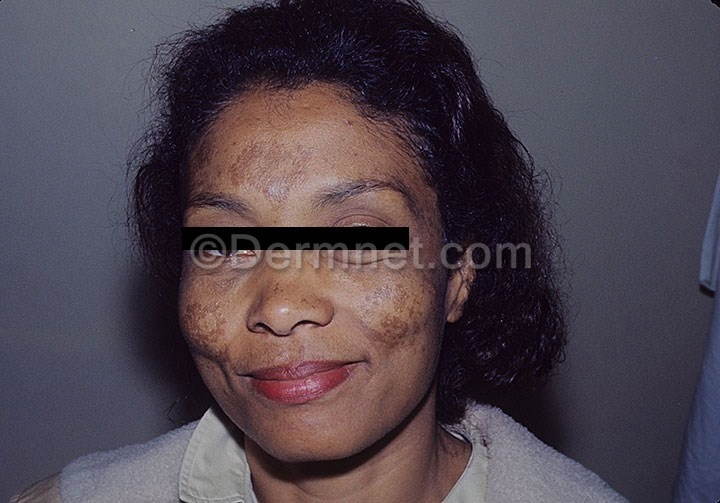Melasma: (359, 275, 440, 356), (230, 136, 322, 197), (178, 296, 240, 365), (267, 277, 332, 315), (253, 340, 314, 365)
